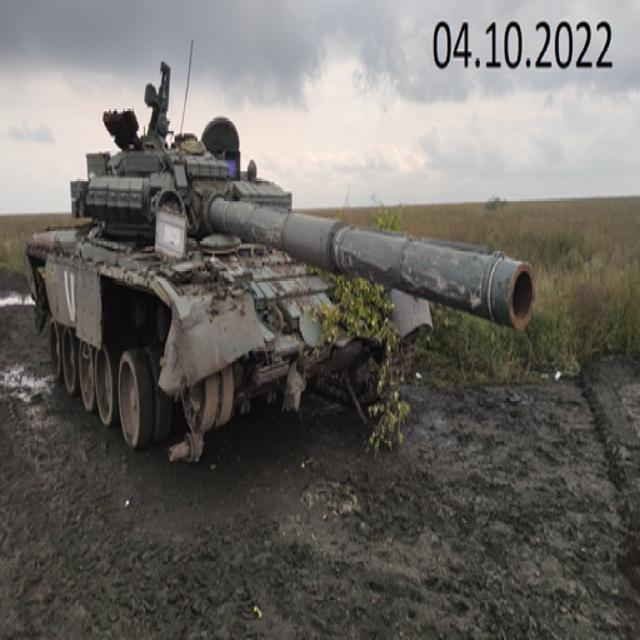TANK: (20, 60, 538, 482)
